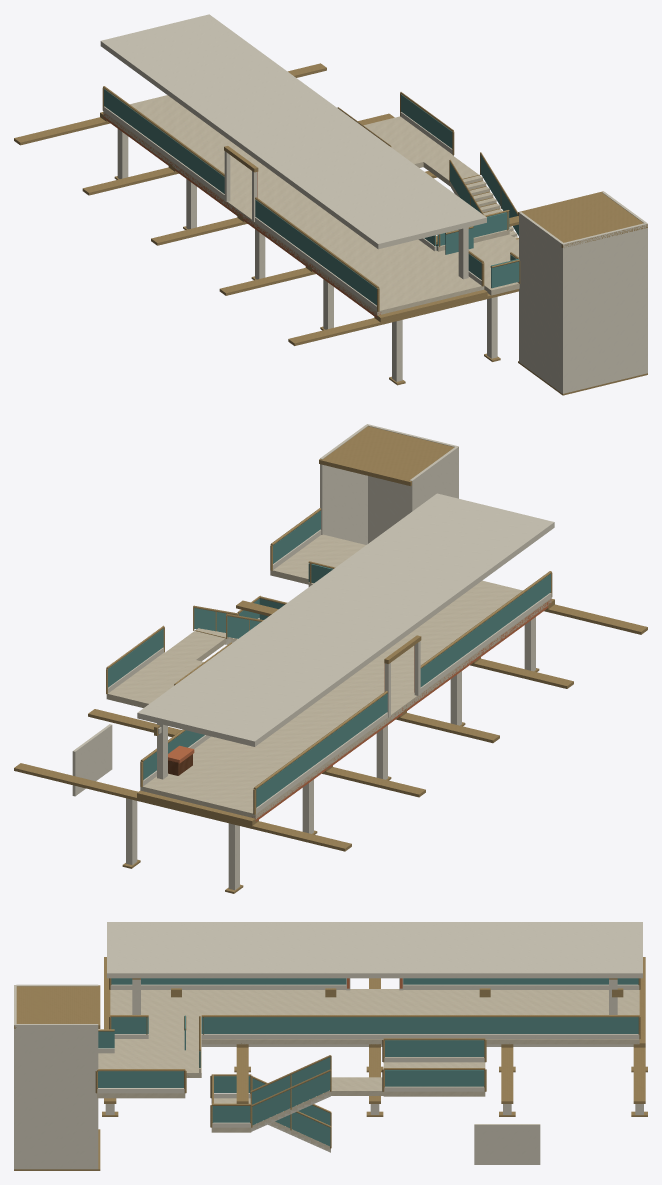
Rendered from AST-TRM-G4-030_aftmid_upper_receiving_r002.glb.
3 renders of one model, top to bottom at view 1: azimuth 30°, elevation 25°; view 2: azimuth 150°, elevation 25°; view 3: azimuth 270°, elevation 25°, orthographic. The views are drawn at different scales.
Visible parts, largest first — view 1: Aftmid_V2__Canopy_Profiled_Crown, Aftmid_V2__Boarding_Island_24m, Aftmid_V2__BoardingLift_Rear, Aftmid_V2__BoardingLift_HousingSide_-3.5, Aftmid_V2__BoardingLift_Header, Aftmid_V2__Tram_NorthGuard_infill, Aftmid_V2__Tram_SouthGuard_infill, Aftmid_V2__Emergency_TopApproach, Aftmid_V2__Platform_InnerFascia, Aftmid_V2_Foremid_Beam_0, Aftmid_V2_Foremid_Beam_4, Aftmid_V2_Foremid_Beam_3 (+16 smaller); view 2: Aftmid_V2__Canopy_Profiled_Crown, Aftmid_V2__Boarding_Island_24m, Aftmid_V2__BoardingLift_Header, Aftmid_V2__BoardingLift_HousingSide_-7.7, Aftmid_V2_Foremid_Beam_4, Aftmid_V2__Tram_SouthGuard_infill, Aftmid_V2__Emergency_TopApproach, Aftmid_V2__Tram_NorthGuard_infill, Aftmid_V2__BoardingLift_Rear, Aftmid_V2__BoardingLift_UpperLanding, Aftmid_V2__BoardingLift_HousingSide_-3.5, Aftmid_V2_Foremid_GuestWaitingScreen (+14 smaller); view 3: Aftmid_V2__Canopy_Profiled_Crown, Aftmid_V2__Boarding_Island_24m, Aftmid_V2__BoardingLift_HousingSide_-7.7, Aftmid_V2__Port_Edge_infill_bounded_end_0, Aftmid_V2__BoardingLift_Header, Aftmid_V2_Foremid_GuestWaitingScreen, Aftmid_V2__Port_Edge_foot_bounded_end_0, Aftmid_V2__BoardingLift_UpperLanding, Aftmid_V2__Upper_Approach_Inner_infill, Aftmid_V2__Upper_Approach_Outer_infill, Aftmid_V2__Tram_NorthGuard_infill, Aftmid_V2__Tram_SouthGuard_infill (+25 smaller).
Boxes of the visible parts, left/top/right/bottom form: Aftmid_V2__Canopy_Profiled_Crown: left=100, top=14, right=486, bottom=249; Aftmid_V2__Boarding_Island_24m: left=103, top=95, right=484, bottom=315; Aftmid_V2__BoardingLift_Rear: left=561, top=222, right=647, bottom=393; Aftmid_V2__BoardingLift_HousingSide_-3.5: left=519, top=212, right=563, bottom=392; Aftmid_V2__BoardingLift_Header: left=518, top=191, right=647, bottom=247; Aftmid_V2__Tram_NorthGuard_infill: left=255, top=200, right=376, bottom=305; Aftmid_V2__Tram_SouthGuard_infill: left=104, top=89, right=224, bottom=193; Aftmid_V2__Emergency_TopApproach: left=363, top=116, right=453, bottom=167; Aftmid_V2__Platform_InnerFascia: left=103, top=113, right=381, bottom=318; Aftmid_V2_Foremid_Beam_0: left=288, top=289, right=518, bottom=345; Aftmid_V2_Foremid_Beam_4: left=14, top=63, right=326, bottom=145; Aftmid_V2_Foremid_Beam_3: left=82, top=113, right=394, bottom=195; Aftmid_V2__Canopy_Profiled_Crown: left=137, top=493, right=554, bottom=746; Aftmid_V2__Boarding_Island_24m: left=140, top=580, right=551, bottom=819; Aftmid_V2__BoardingLift_Header: left=319, top=426, right=454, bottom=486; Aftmid_V2__BoardingLift_HousingSide_-7.7: left=320, top=425, right=367, bottom=544; Aftmid_V2_Foremid_Beam_4: left=14, top=763, right=351, bottom=851; Aftmid_V2__Tram_SouthGuard_infill: left=256, top=693, right=387, bottom=807; Aftmid_V2__Emergency_TopApproach: left=106, top=652, right=203, bottom=707; Aftmid_V2__Tram_NorthGuard_infill: left=420, top=574, right=550, bottom=686; Aftmid_V2__BoardingLift_Rear: left=366, top=424, right=458, bottom=543; Aftmid_V2__BoardingLift_UpperLanding: left=270, top=534, right=365, bottom=584; Aftmid_V2__BoardingLift_HousingSide_-3.5: left=409, top=446, right=457, bottom=512; Aftmid_V2_Foremid_GuestWaitingScreen: left=72, top=724, right=112, bottom=796; Aftmid_V2__Canopy_Profiled_Crown: left=107, top=922, right=642, bottom=978; Aftmid_V2__Boarding_Island_24m: left=110, top=989, right=639, bottom=1044; Aftmid_V2__BoardingLift_HousingSide_-7.7: left=16, top=1024, right=98, bottom=1169; Aftmid_V2__Port_Edge_infill_bounded_end_0: left=201, top=1017, right=638, bottom=1033; Aftmid_V2__BoardingLift_Header: left=14, top=985, right=100, bottom=1028; Aftmid_V2_Foremid_GuestWaitingScreen: left=474, top=1124, right=540, bottom=1164; Aftmid_V2__Port_Edge_foot_bounded_end_0: left=201, top=1034, right=639, bottom=1038; Aftmid_V2__BoardingLift_UpperLanding: left=97, top=1052, right=185, bottom=1098; Aftmid_V2__Upper_Approach_Inner_infill: left=385, top=1070, right=484, bottom=1086; Aftmid_V2__Upper_Approach_Outer_infill: left=385, top=1040, right=484, bottom=1056; Aftmid_V2__Tram_NorthGuard_infill: left=111, top=978, right=346, bottom=984; Aftmid_V2__Tram_SouthGuard_infill: left=403, top=978, right=638, bottom=984.
Bounding box in the file's own units: 15.55 × 7.3 × 28.74.
6 materials, 4 textured.
